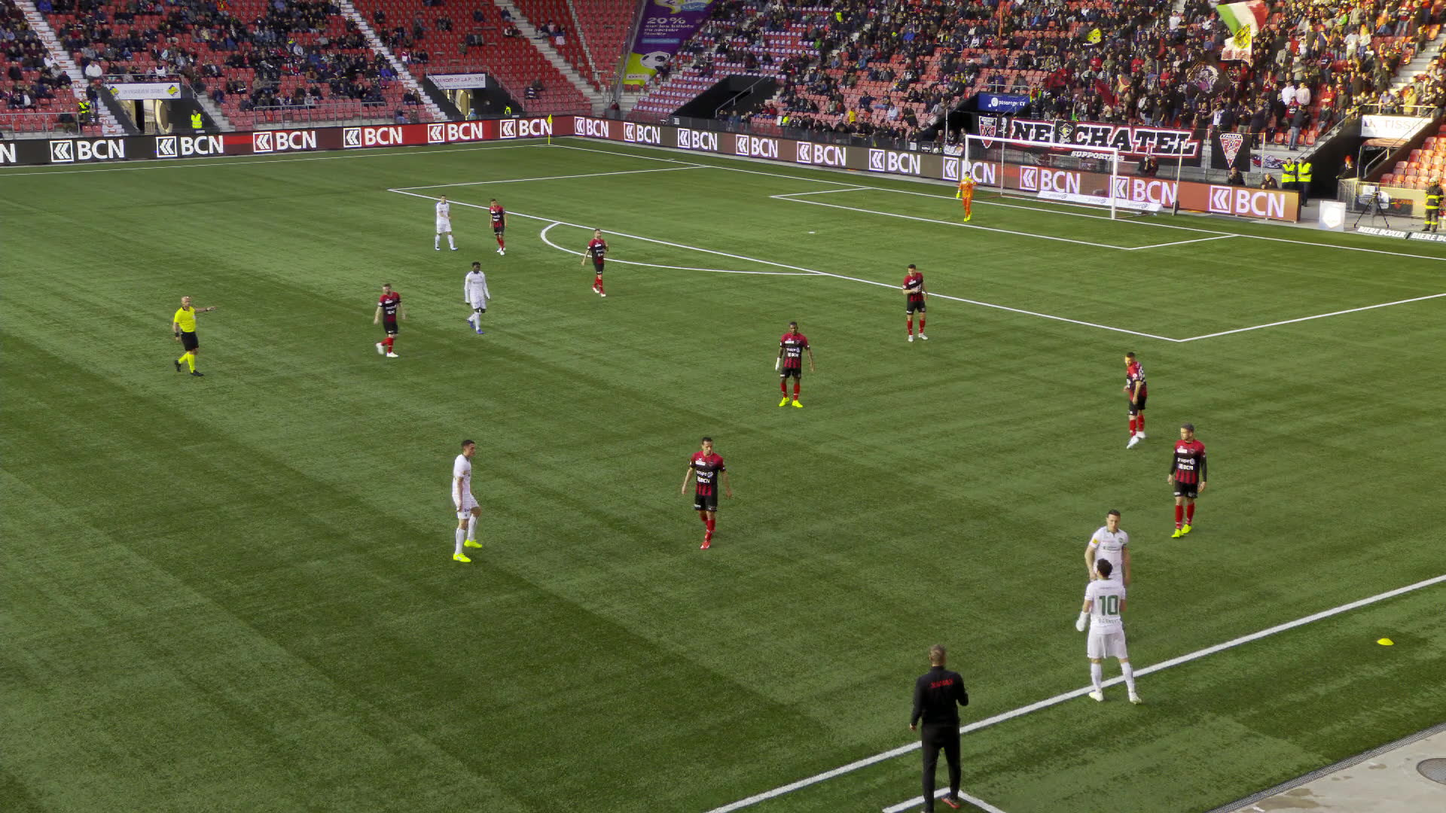player: (1085, 558, 1142, 704), (1073, 508, 1130, 629), (682, 437, 729, 549), (1165, 422, 1207, 535), (450, 439, 480, 561), (773, 321, 809, 406), (1121, 352, 1150, 448), (369, 282, 404, 358), (902, 263, 929, 341), (462, 262, 489, 333), (581, 228, 608, 295), (435, 193, 457, 249), (489, 197, 508, 254), (956, 170, 976, 221)
referee: (170, 296, 215, 376)
